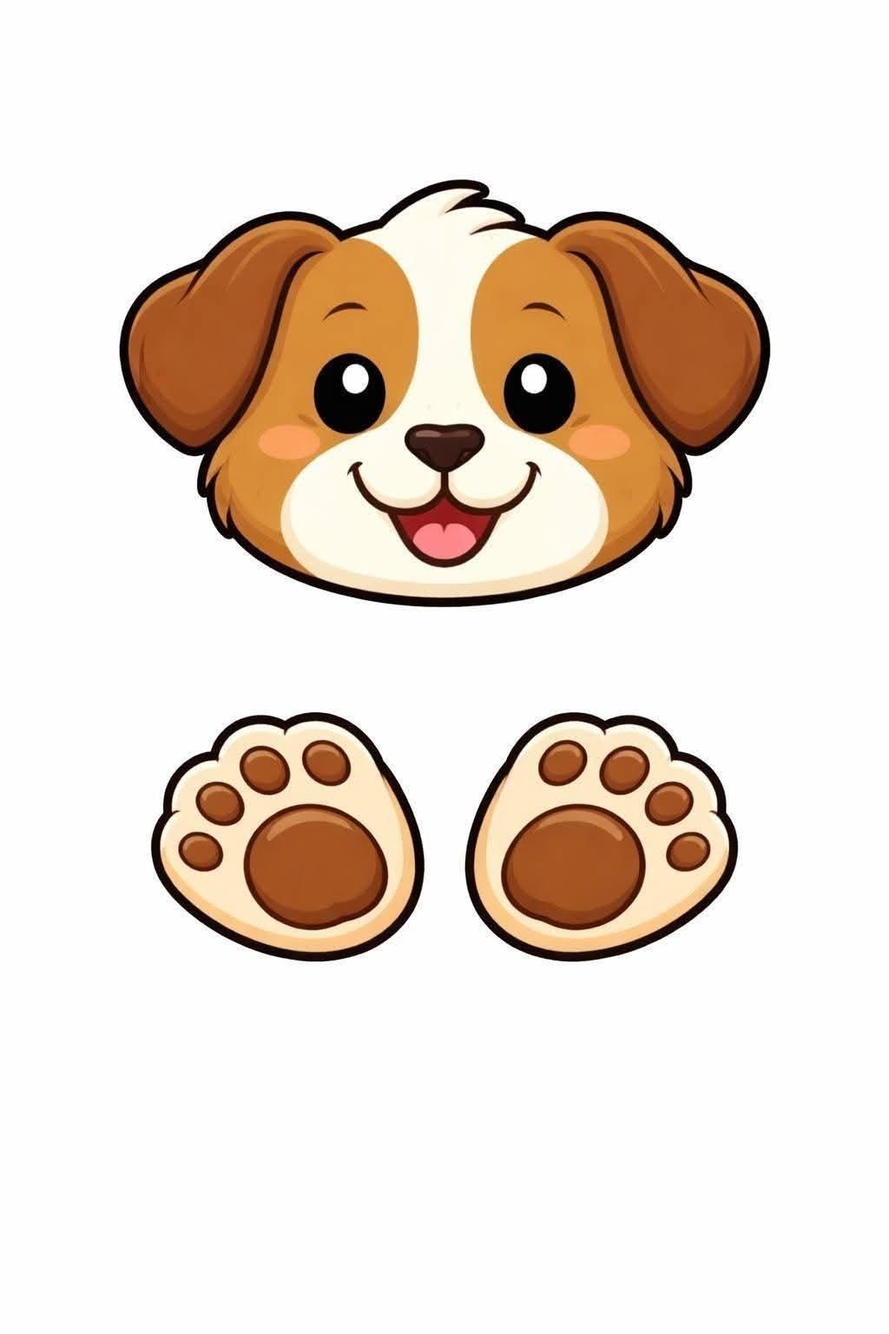puppy-dog: (117, 181, 770, 607)
